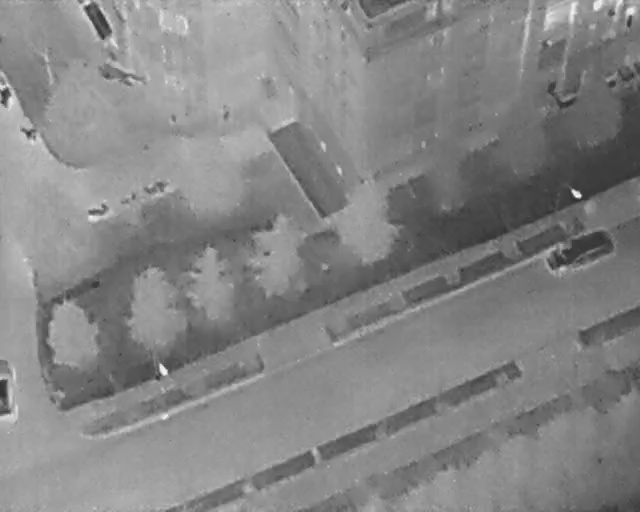Car: (542, 224, 616, 276), (0, 358, 16, 420)
